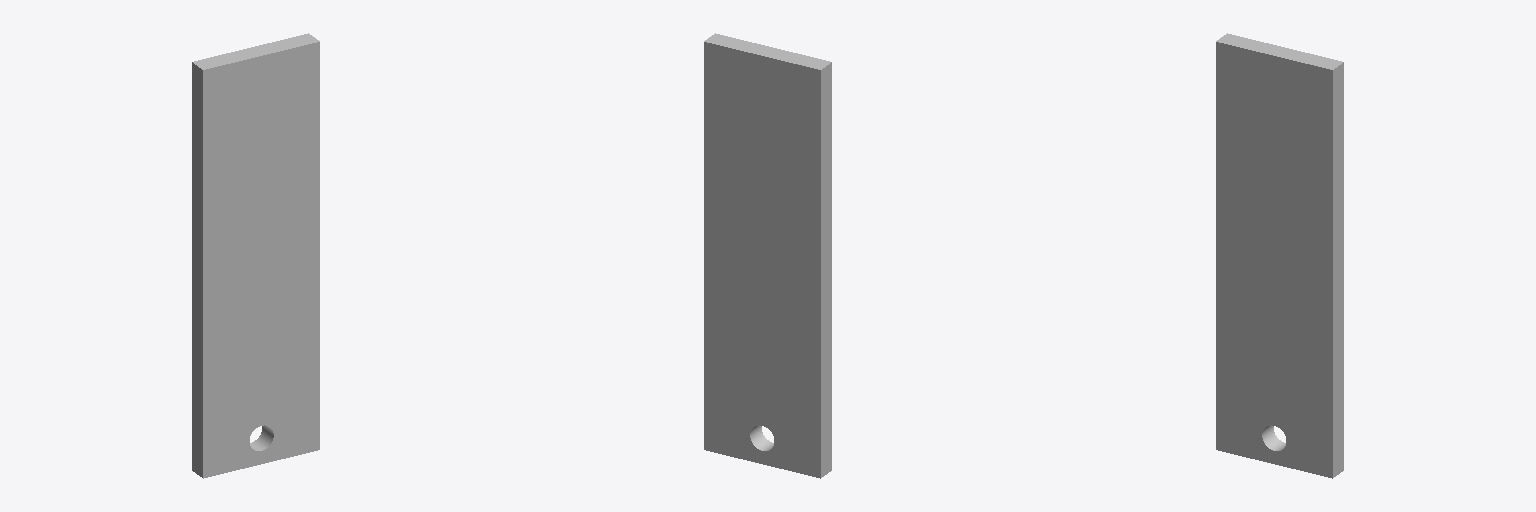
File: Hole1.obj
The picture shows the model from 3 angles: view 1: azimuth 30°, elevation 25°; view 2: azimuth 150°, elevation 25°; view 3: azimuth 330°, elevation 25°; orthographic projection.
Visible parts, largest first — view 1: Object.1; view 2: Object.1; view 3: Object.1.
Part boxes in pixels (left/top/right/bottom): Object.1: left=192, top=33, right=319, bottom=478; Object.1: left=704, top=33, right=831, bottom=478; Object.1: left=1216, top=33, right=1343, bottom=478.
Size of the model in its own units: 60 by 200 by 10.